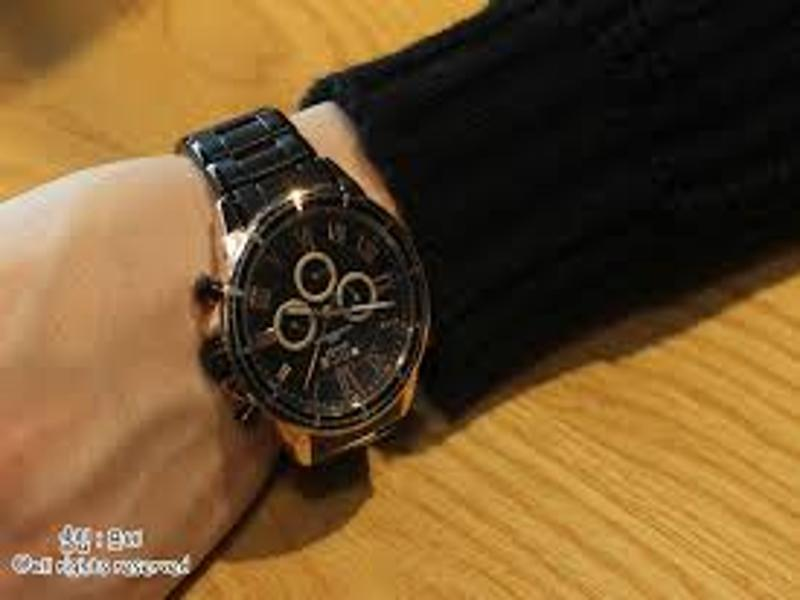watch: (175, 103, 432, 467)
